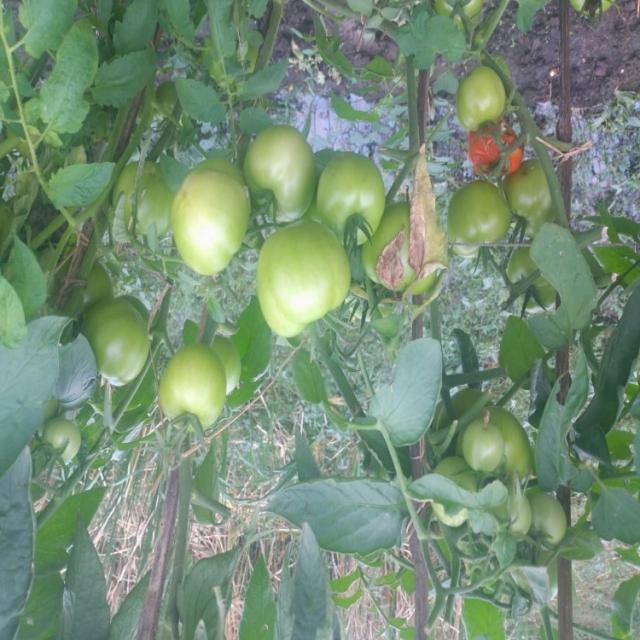tomato: (242, 213, 380, 346), (238, 113, 353, 227), (161, 152, 253, 274), (153, 347, 257, 452), (314, 160, 413, 254), (76, 295, 159, 383), (445, 179, 531, 263), (518, 493, 595, 562), (445, 82, 530, 139), (508, 165, 563, 242), (465, 128, 539, 181), (460, 416, 517, 480), (37, 420, 92, 480)
